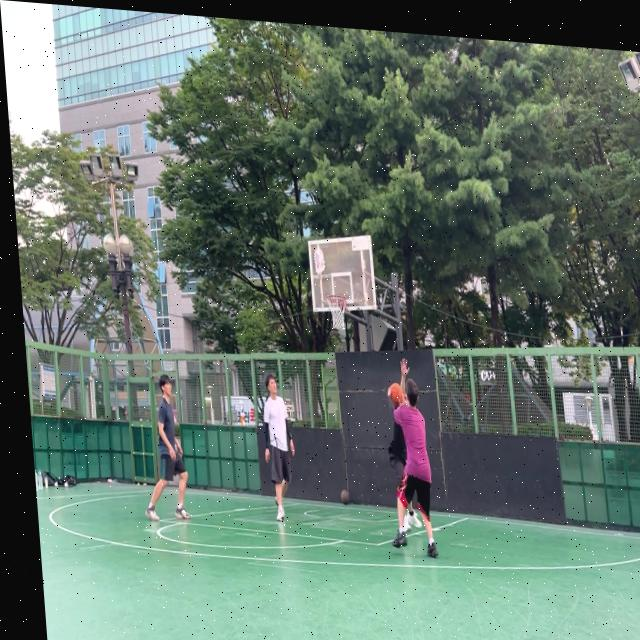basketball: (389, 382, 405, 410), (340, 489, 351, 506)
hoop: (325, 292, 349, 331)
